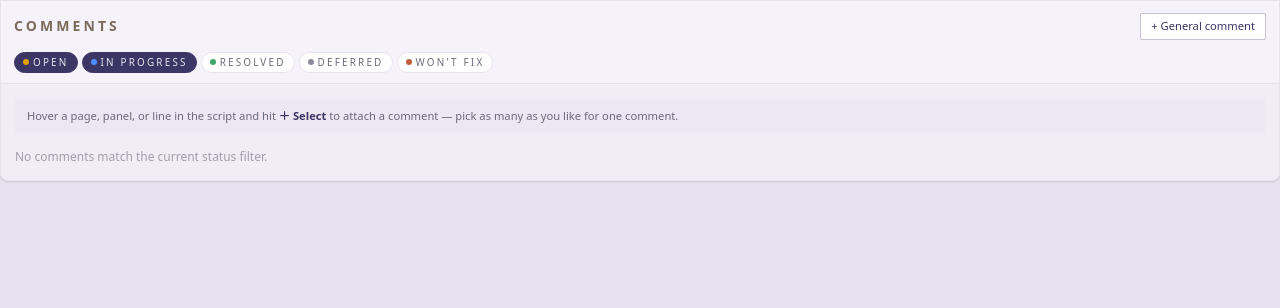
Test case: CommentGutter › toggling the Resolved chip reveals a resolved root
Expected: the text "Resolved note" is not shown
Click the button "Resolved".
click(248, 62)  # box [201,52,295,73]
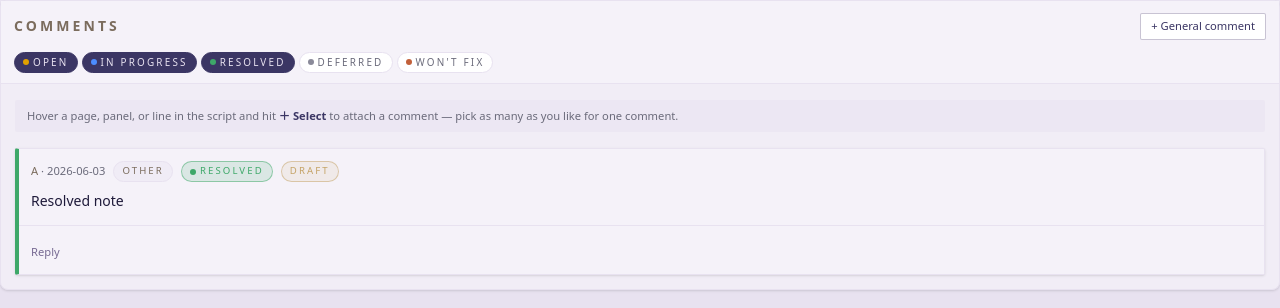
Expected: the text "Resolved note" is shown, [31,191,124,210]
